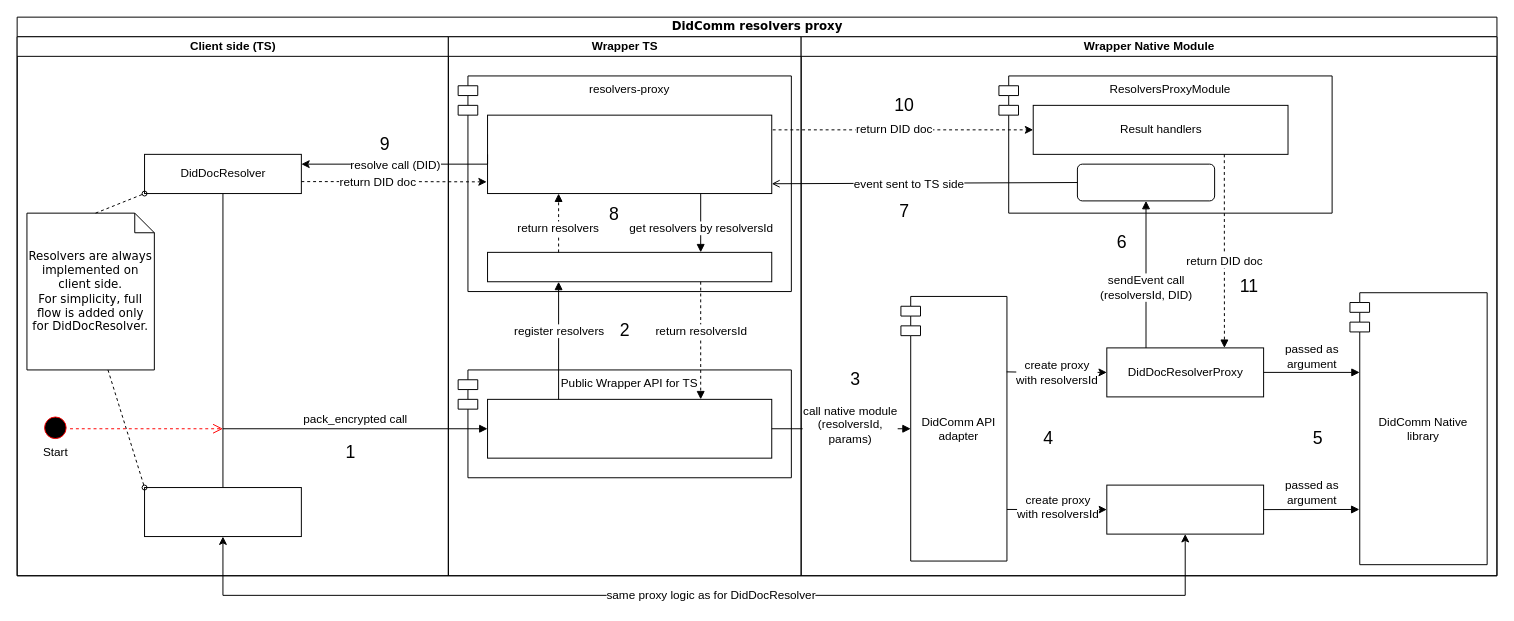
The diagram is 1514 pixels wide and 621 high, and some of its shapes have lost their labels. Each missing label, with the centre of its shape:
"Emit RN Bridge event (resolversId, DID)" belongs at point (1145, 182).
"pack_encrypted" belongs at point (629, 428).
"Registered (known) resolvers" belongs at point (629, 266).
"Resolve handlers" belongs at point (629, 154).
"SecretResolver" belongs at point (222, 512).
"SecretResolverProxy" belongs at point (1185, 509).
